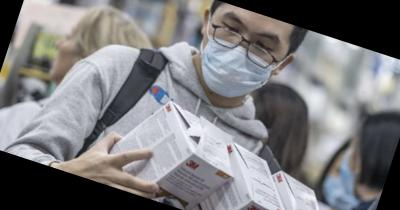with_mask: (188, 5, 294, 113), (332, 134, 376, 200), (316, 157, 369, 210)
without_mask: (41, 24, 87, 91)
